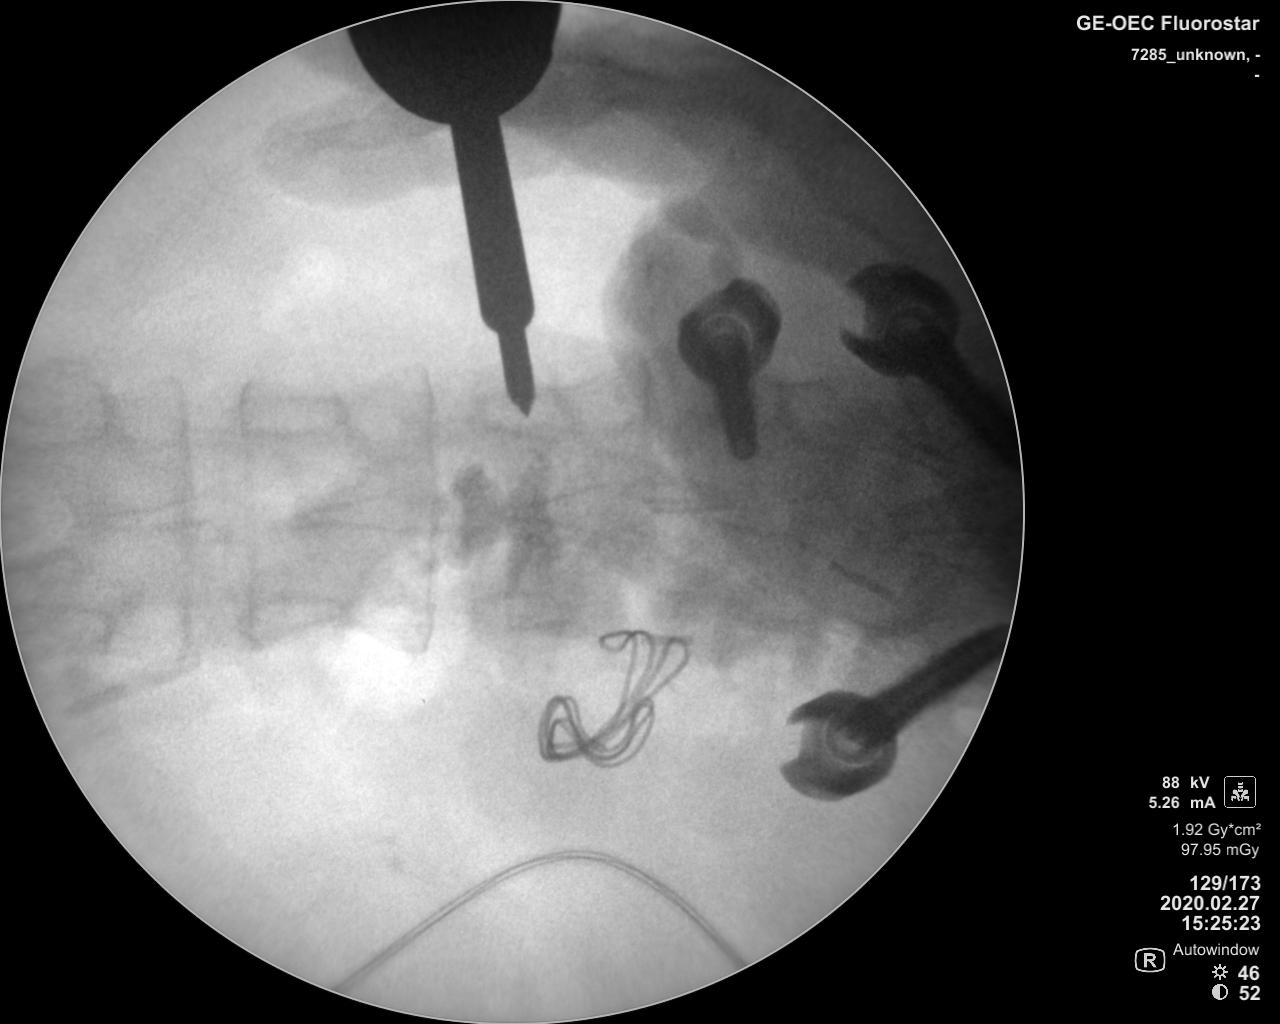eyes: (17, 367, 113, 444), (15, 597, 116, 664), (236, 386, 349, 439), (239, 592, 346, 639), (485, 390, 572, 438), (475, 588, 568, 630)
line: (414, 358, 440, 658), (232, 374, 259, 660), (172, 368, 197, 674)
nose: (285, 489, 445, 539), (503, 485, 655, 534), (98, 492, 226, 539)
